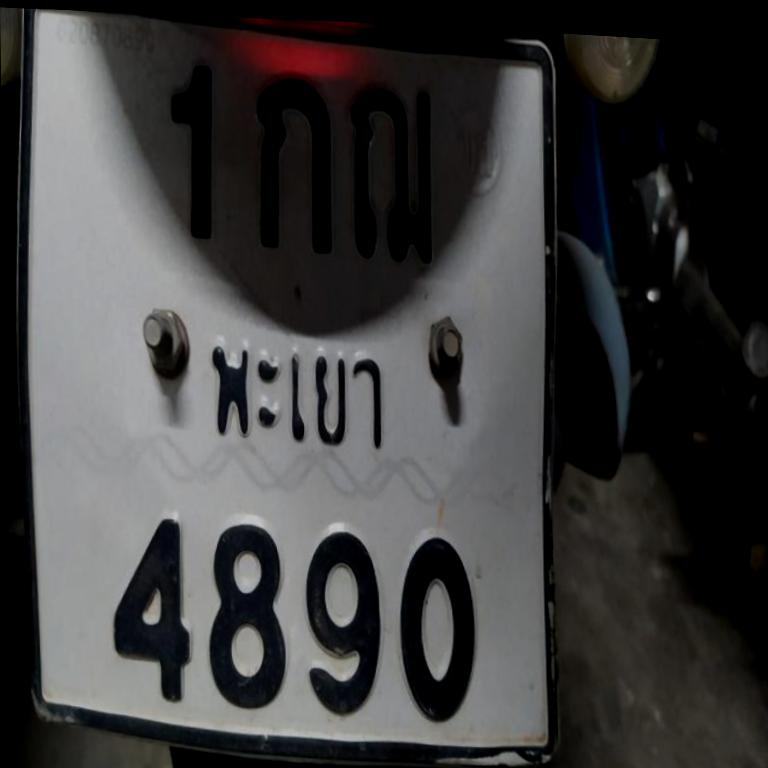license plate: (9, 1, 571, 768)
